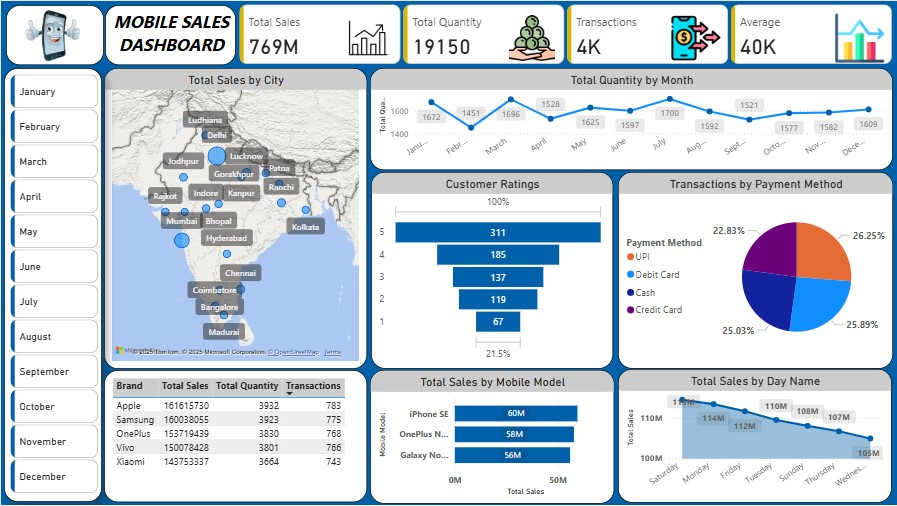

Layout of this report page (visuals, bound fields, positions):
{"tool":"powerbi","page":{"name":"Page 1","canvas":[1280,720],"ordinal":0},"visuals":[{"type":"shape","title":"MOBILE SALES DASHBOARD","box":[148.6,5.7,187.1,85.7],"z":0},{"type":"map","fields":{"Category":["Sales_Data.City"],"Size":["Sales_Data.Total Sales"]},"box":[147.1,95.7,375.7,430],"z":1000},{"type":"shape","box":[7.1,5.7,140,85.7],"z":2000},{"type":"shape","box":[4.3,95.7,140,620],"z":4000},{"type":"advancedSlicerVisual","fields":{"Values":["Sales_Data.Date.Variation.Date Hierarchy.Month"]},"box":[8.6,100,135.7,614.3],"z":5000},{"type":"cardVisual","fields":{"Data":["Sales_Data.Total Sales","Sales_Data.Total Quantity","Sales_Data.Transactions","Sales_Data.Average"]},"box":[335.7,0,944.3,95.7],"z":6000},{"type":"lineChart","fields":{"Y":["Sales_Data.Total Quantity"],"Category":["Sales_Data.Date.Variation.Date Hierarchy.Month","Sales_Data.Date.Variation.Date Hierarchy.Day"]},"box":[527.1,95.7,747.1,145.7],"z":7000},{"type":"clusteredBarChart","fields":{"Category":["Sales_Data.Mobile Model"],"Y":["Sales_Data.Total Sales"]},"box":[527.1,527.1,348.6,191.4],"z":8000},{"type":"pieChart","fields":{"Category":["Sales_Data.Payment Method"],"Y":["Sales_Data.Transactions"]},"box":[881.4,244.3,392.9,281.4],"z":9000},{"type":"funnel","title":"Customer Ratings","fields":{"Y":["CountNonNull(Sales_Data.Customer Ratings)"],"Category":["Sales_Data.Customer Ratings"]},"box":[528.6,244.3,345.7,281.4],"z":10000},{"type":"areaChart","fields":{"Category":["Sales_Data.Day Name"],"Y":["Sales_Data.Total Sales"]},"box":[881.4,525.7,391.4,191.4],"z":11000},{"type":"tableEx","fields":{"Values":["Sales_Data.Brand","Sales_Data.Total Sales","Sales_Data.Total Quantity","Sales_Data.Transactions"]},"box":[147.1,527.1,375.7,188.6],"z":12000},{"type":"image","box":[7.1,5.7,134.3,85.7],"z":13000}]}

Visuals, with their boxes in screenshot pixels (x1, y1, x2, y2), scaled from the page's 1280x720 canvas onto the 897x506 screenshot:
"MOBILE SALES DASHBOARD" shape: detection(104, 4, 235, 64)
map - Sales_Data.City x Sales_Data.Total Sales: detection(103, 67, 366, 369)
shape: detection(5, 4, 103, 64)
shape: detection(3, 67, 101, 503)
advancedSlicerVisual - Sales_Data.Date.Variation.Date Hierarchy.Month: detection(6, 70, 101, 502)
cardVisual - Sales_Data.Total Sales x Sales_Data.Total Quantity: detection(235, 0, 896, 67)
lineChart - Sales_Data.Total Quantity x Sales_Data.Date.Variation.Date Hierarchy.Month: detection(369, 67, 893, 170)
clusteredBarChart - Sales_Data.Mobile Model x Sales_Data.Total Sales: detection(369, 370, 614, 505)
pieChart - Sales_Data.Payment Method x Sales_Data.Transactions: detection(618, 172, 893, 369)
"Customer Ratings" funnel: detection(370, 172, 613, 369)
areaChart - Sales_Data.Day Name x Sales_Data.Total Sales: detection(618, 369, 892, 504)
tableEx - Sales_Data.Brand x Sales_Data.Total Sales: detection(103, 370, 366, 503)
image: detection(5, 4, 99, 64)
